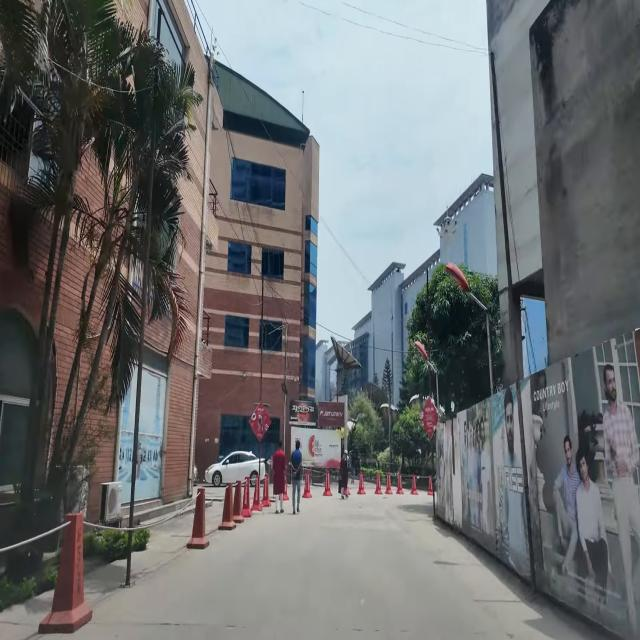person: (290, 438, 303, 515)
